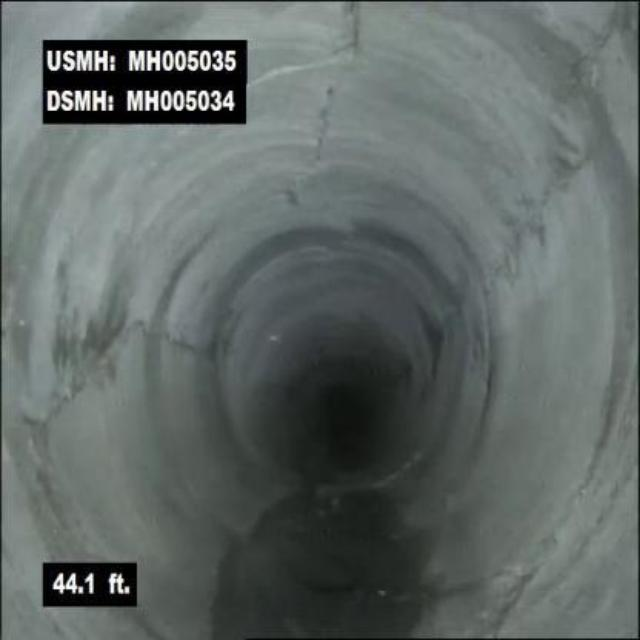Crack: (29, 305, 126, 445), (271, 5, 392, 117), (557, 6, 638, 103)
